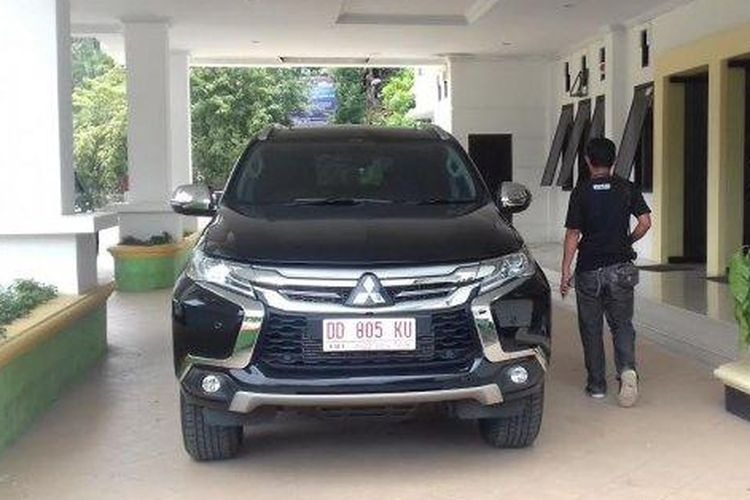plat nomor: (322, 315, 417, 350)
